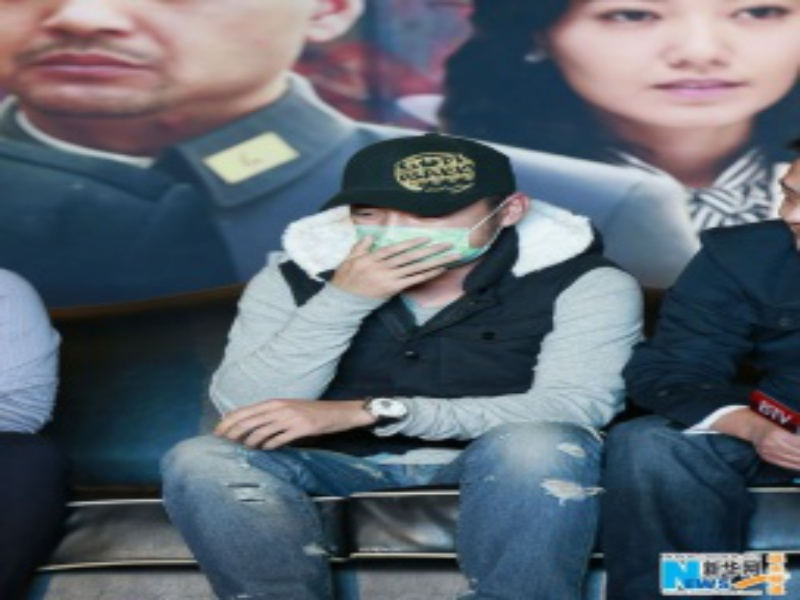ManaoArotava: (333, 135, 539, 282)
